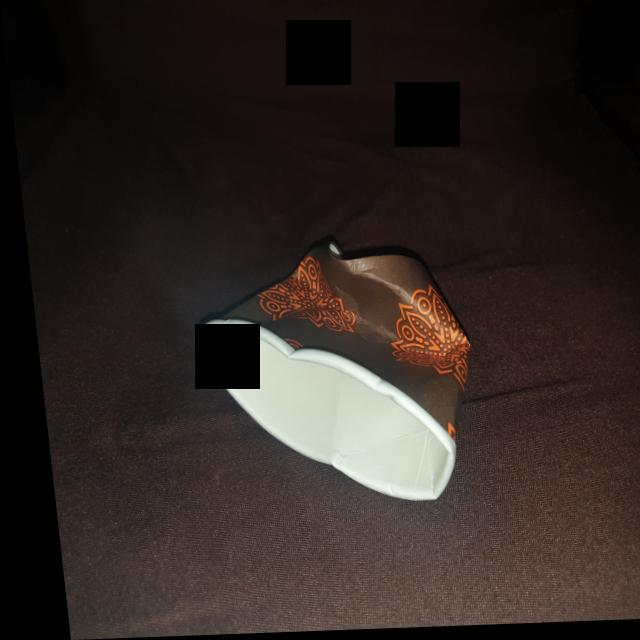cups: (177, 232, 481, 513)
